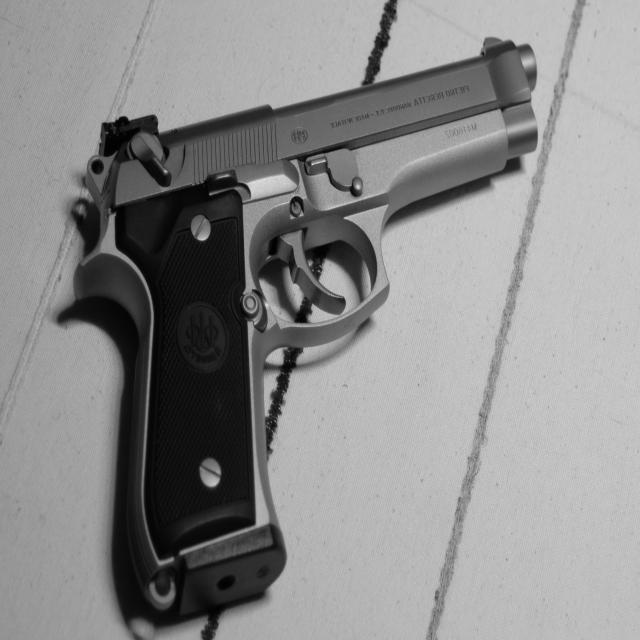Gun: (59, 33, 548, 640)
